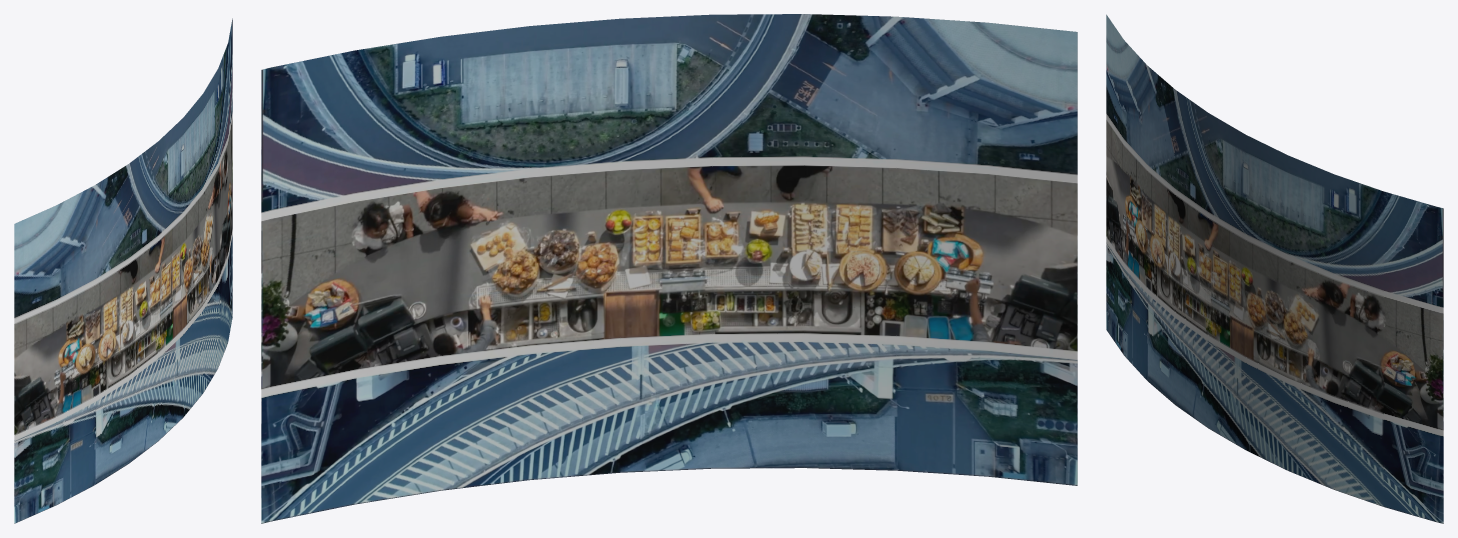
File: TZ_Curved_screens_02.glb
3 views of the same model, side by side, from view 1: azimuth 30°, elevation 25°; view 2: azimuth 150°, elevation 25°; view 3: azimuth 270°, elevation 25° (orthographic). The views are drawn at different scales.
Visible parts, largest first — view 1: TZ_Curved_screens_02; view 2: TZ_Curved_screens_02; view 3: TZ_Curved_screens_02.
Boxes of the visible parts, box(x1,y1,x2,y2) form: TZ_Curved_screens_02: box(14, 18, 232, 523); TZ_Curved_screens_02: box(261, 14, 1077, 523); TZ_Curved_screens_02: box(1106, 14, 1443, 523).
Bounding box in the file's own units: 2.8 × 2.12 × 2.05.
Materials: 1 (1 with a texture image).
